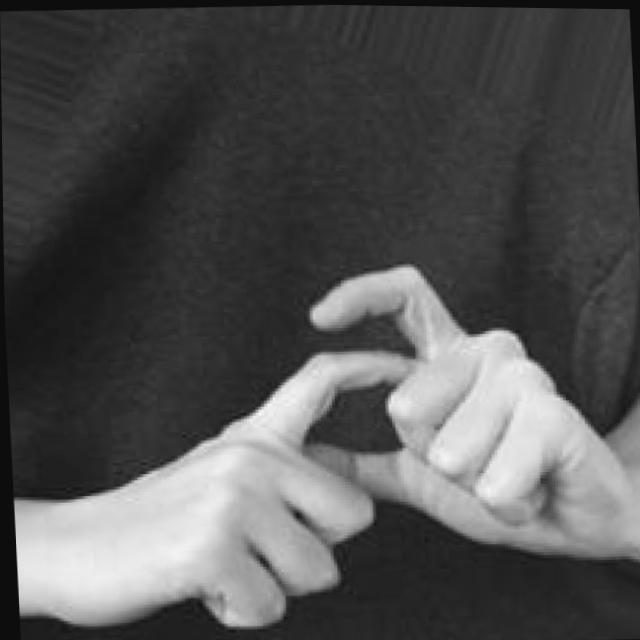G: (30, 250, 640, 640)
